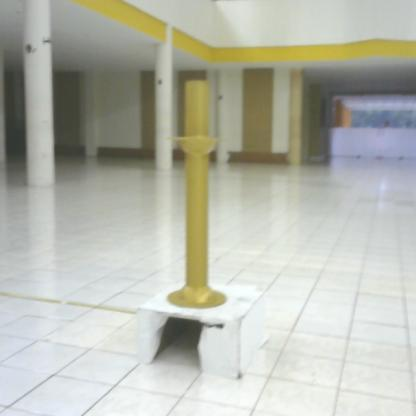pole: (168, 78, 229, 316)
